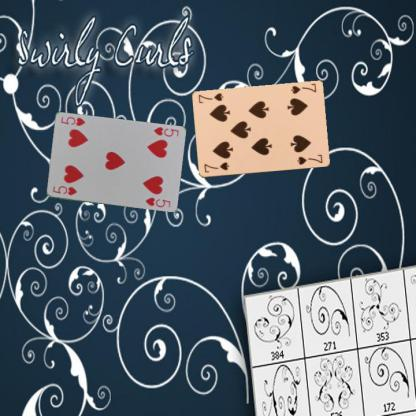5h: (150, 124, 180, 138), (50, 183, 78, 197)
7s: (201, 160, 231, 174), (288, 81, 318, 95)
